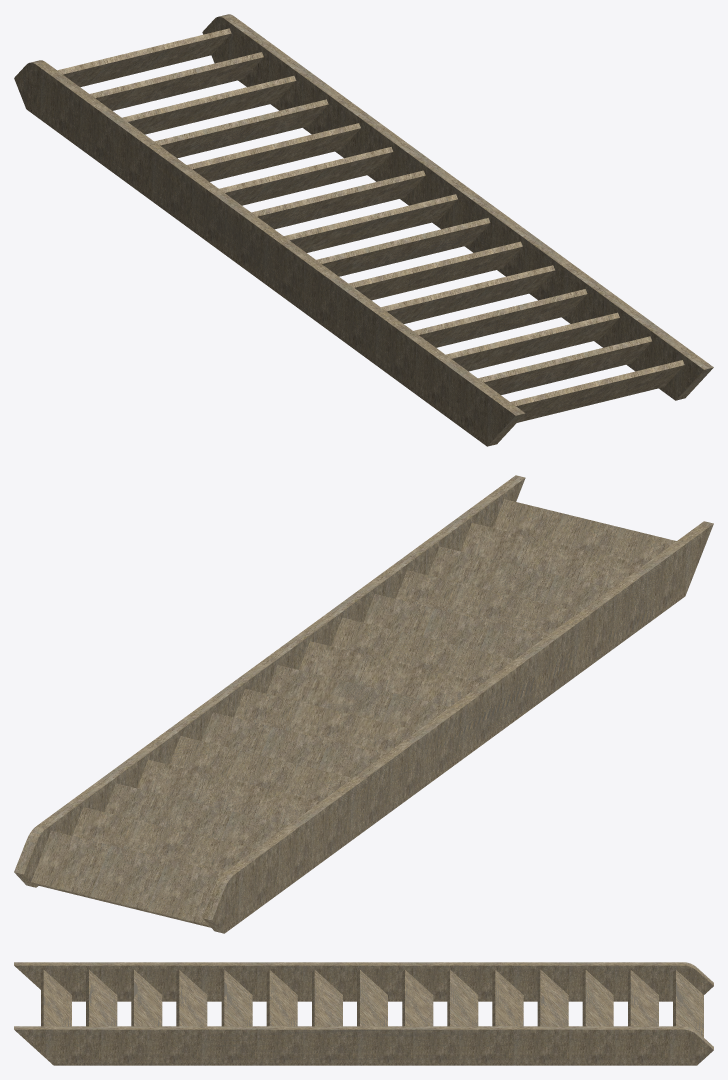
The model's file is Ladder 2.fbx.
3 views of the same model, one above another, from view 1: azimuth 30°, elevation 25°; view 2: azimuth 150°, elevation 25°; view 3: azimuth 270°, elevation 25° (orthographic). The views are drawn at different scales.
Visible parts, largest first — view 1: Model; view 2: Model; view 3: Model.
Part boxes in pixels (left/top/right/bottom): Model: left=14, top=14, right=713, bottom=446; Model: left=14, top=475, right=713, bottom=933; Model: left=14, top=962, right=713, bottom=1065.
Size of the model in its own units: 39.37 by 9.84 by 173.
